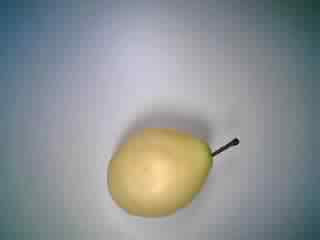pear: (94, 114, 249, 226)
